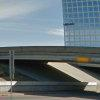Bridge: (4, 36, 95, 74)
